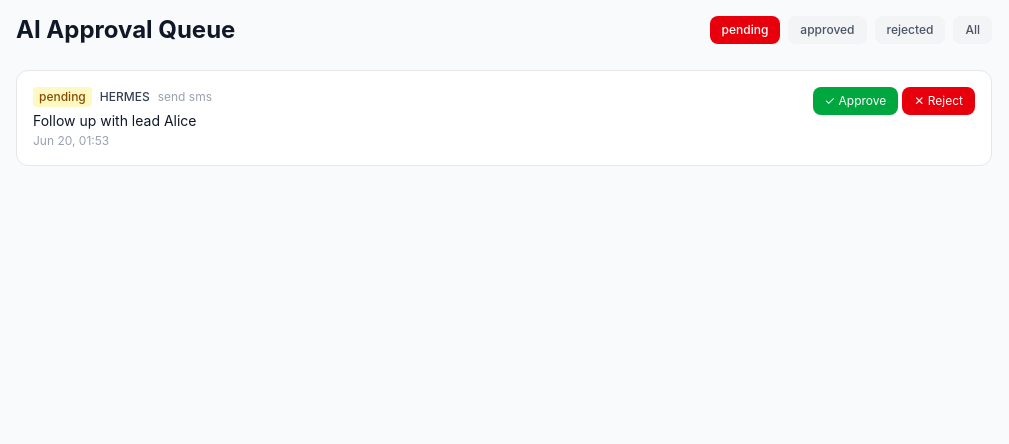
Test: ApprovalQueue › expands item to show JSON payload on click
Click the text "HERMES": point(125, 97) [100,89,150,105]
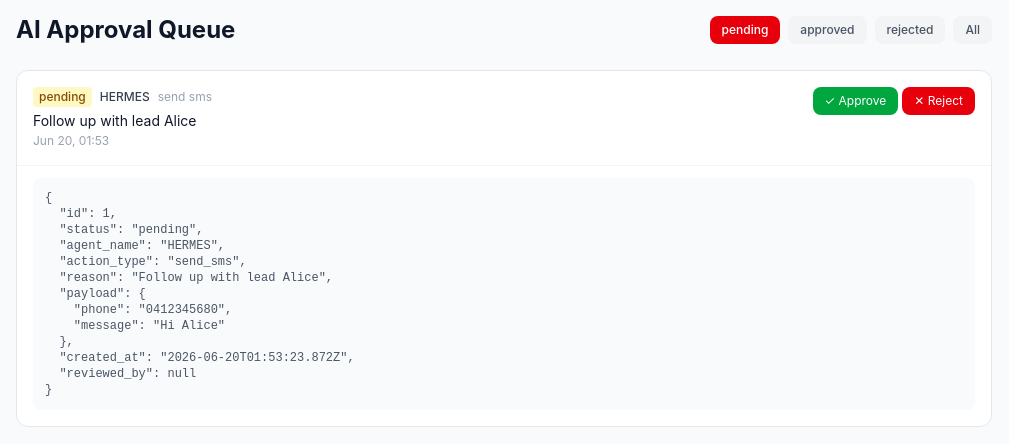
Check: the text "payload" is shown, box [45,191,355,397]
